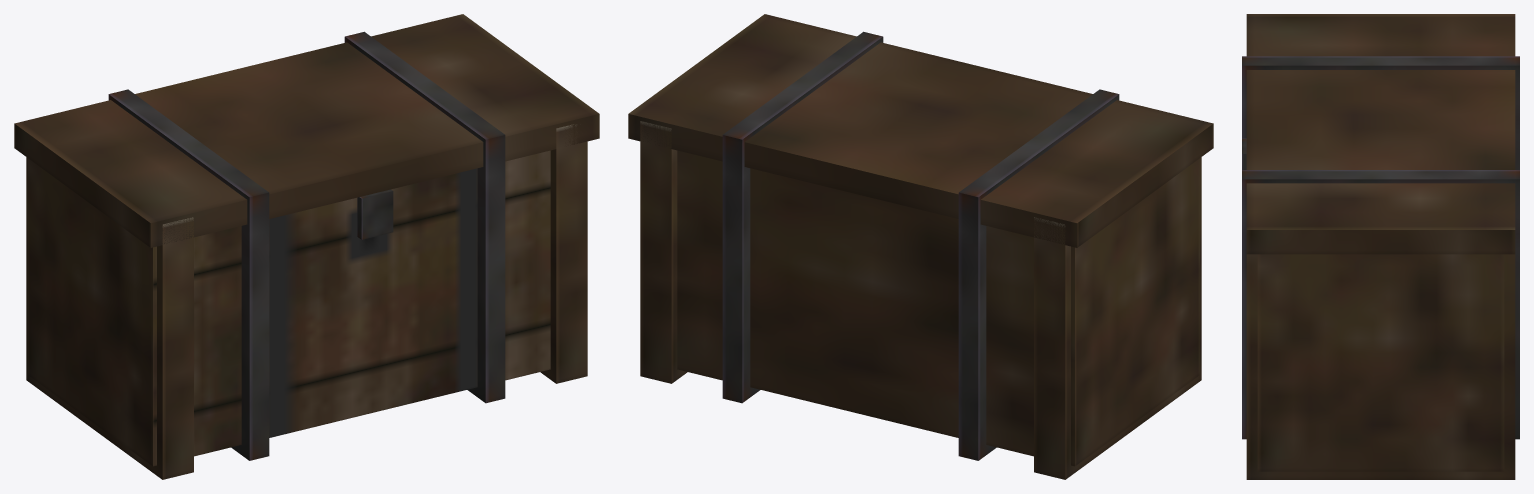
Rendered from chest_oak.obj.
The picture shows the model from 3 angles, left to right: view 1: azimuth 30°, elevation 25°; view 2: azimuth 150°, elevation 25°; view 3: azimuth 270°, elevation 25°; orthographic projection.
Visible parts, largest first — view 1: chest_oak; view 2: chest_oak; view 3: chest_oak.
Part boxes in pixels (left/top/right/bottom): chest_oak: left=14, top=14, right=599, bottom=479; chest_oak: left=628, top=14, right=1213, bottom=479; chest_oak: left=1242, top=14, right=1519, bottom=479.
Size of the model in its own units: 1.14 by 0.64 by 0.62.
1 material, 1 textured.
